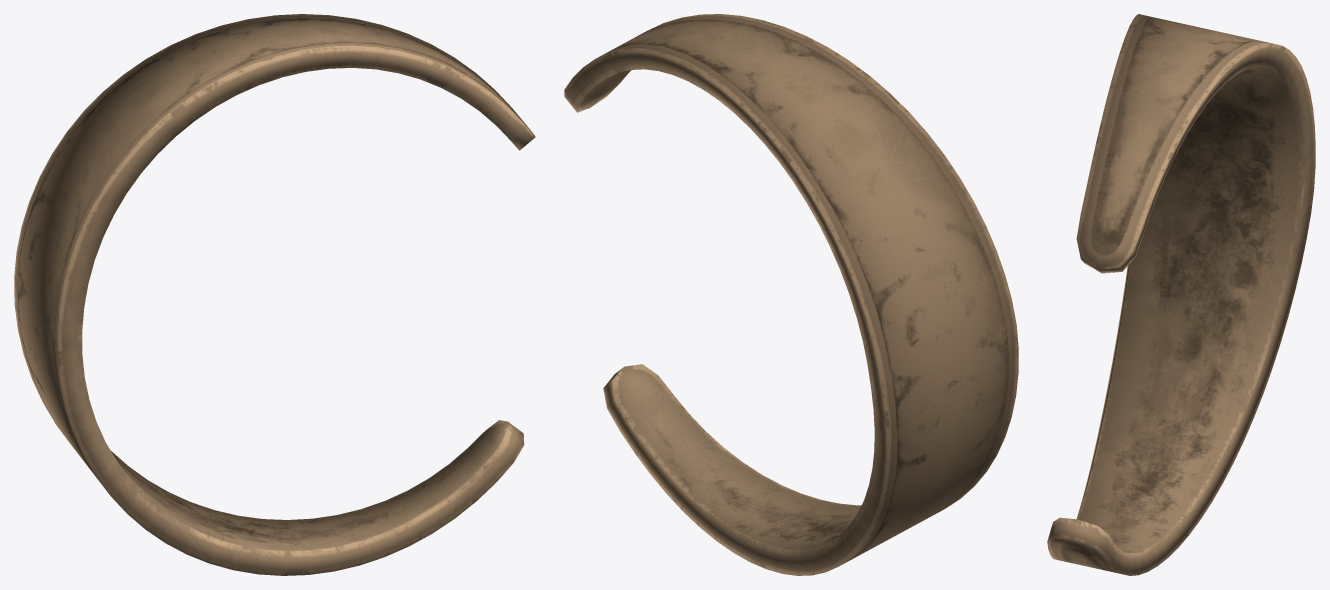
File: bracelet.fbx
The picture shows the model from 3 angles, left to right: view 1: azimuth 30°, elevation 25°; view 2: azimuth 150°, elevation 25°; view 3: azimuth 270°, elevation 25°; orthographic projection. The views are drawn at different scales.
Visible parts, largest first — view 1: Bracelet; view 2: Bracelet; view 3: Bracelet.
Part boxes in pixels (x1,y1,x2,y2): Bracelet: (14, 14, 535, 575); Bracelet: (564, 14, 1018, 575); Bracelet: (1047, 14, 1315, 575).
Size of the model in its own units: 5.96 by 11.66 by 12.41.
Materials: 1 (1 with a texture image).
